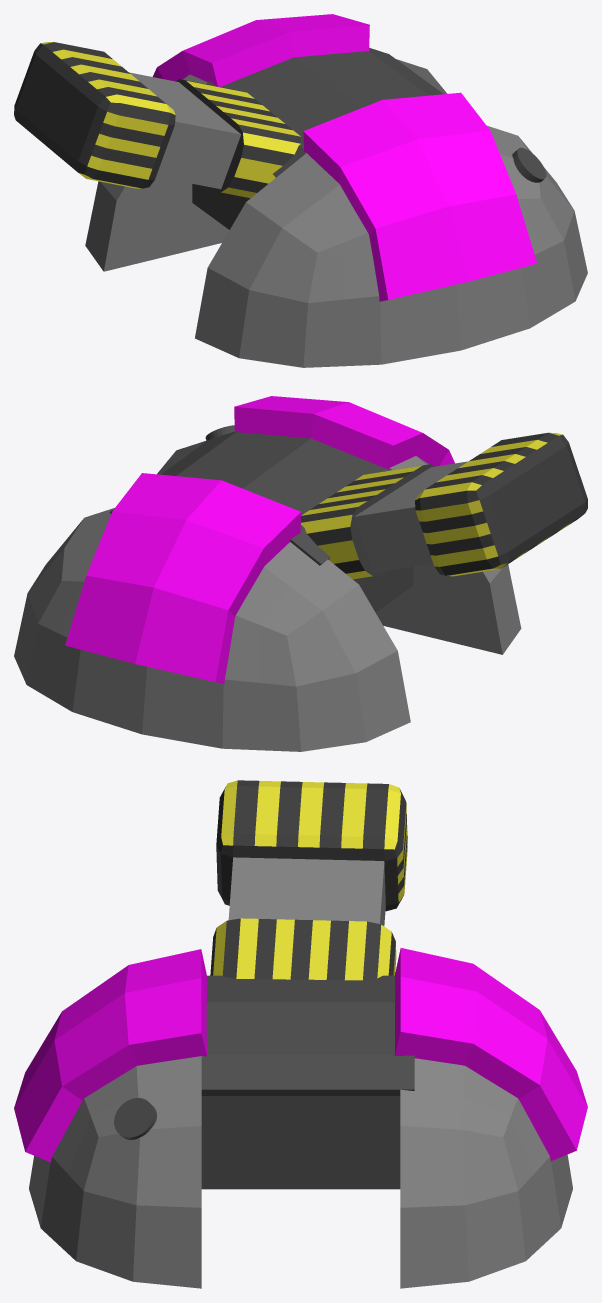
Rendered from SilenceAddOn2.fbx.
3 renders of one model, top to bottom at view 1: azimuth 30°, elevation 25°; view 2: azimuth 150°, elevation 25°; view 3: azimuth 270°, elevation 25°, orthographic. The views are drawn at different scales.
Parts seen in each view (by area): view 1: Cube.058; view 2: Cube.058; view 3: Cube.058.
Part boxes in pixels (x1,y1,x2,y2): Cube.058: [14, 14, 587, 367]; Cube.058: [14, 396, 587, 751]; Cube.058: [14, 780, 587, 1288].
Size of the model in its own units: 201 by 100 by 193.
